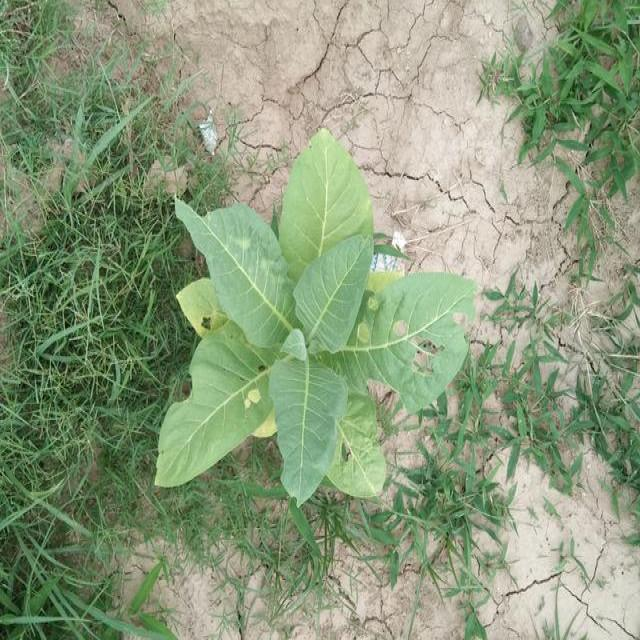crop: (152, 120, 476, 502)
